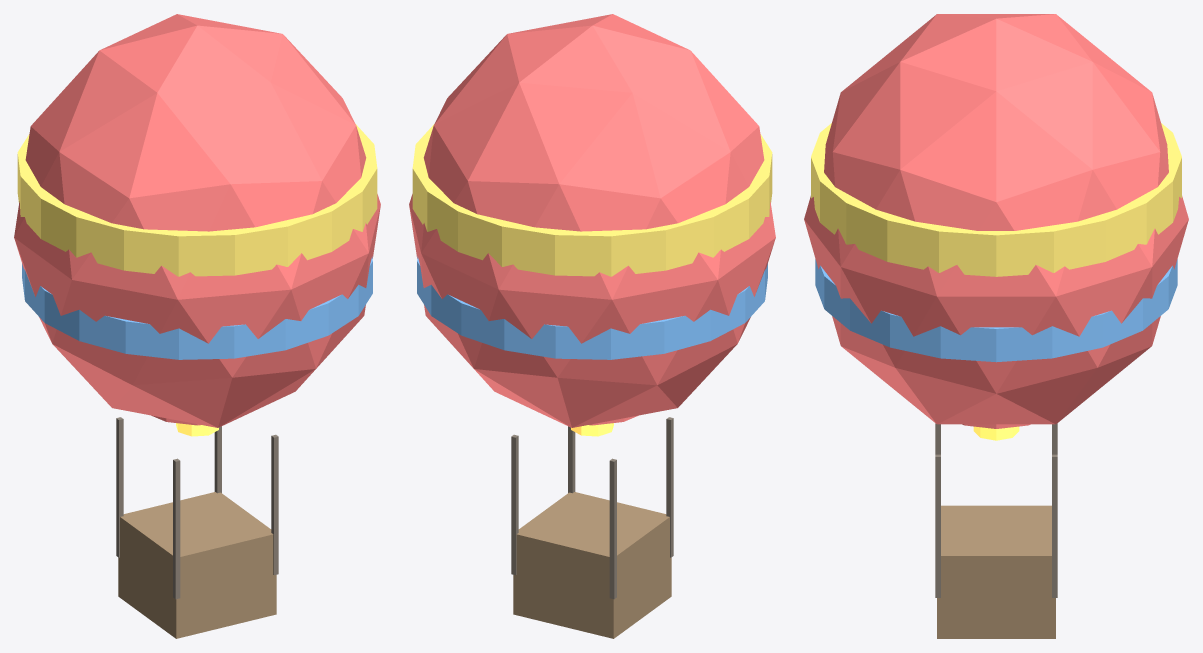
Rendered from balloon.glb.
The picture shows the model from 3 angles, left to right: view 1: azimuth 30°, elevation 25°; view 2: azimuth 150°, elevation 25°; view 3: azimuth 270°, elevation 25°; orthographic projection. The views are drawn at different scales.
Visible parts, largest first — view 1: balloon; view 2: balloon; view 3: balloon.
Part boxes in pixels (box(x1,y1,x2,y2)): balloon: box(14, 14, 380, 638); balloon: box(409, 14, 775, 638); balloon: box(804, 14, 1188, 638).
Bounding box in the file's own units: 0.81 × 1.43 × 0.84.
